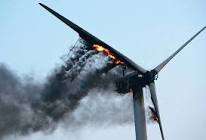faulty: (45, 9, 170, 114)
